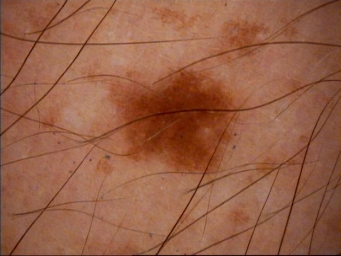melanoma: (121, 67, 234, 174), (229, 20, 266, 61)
